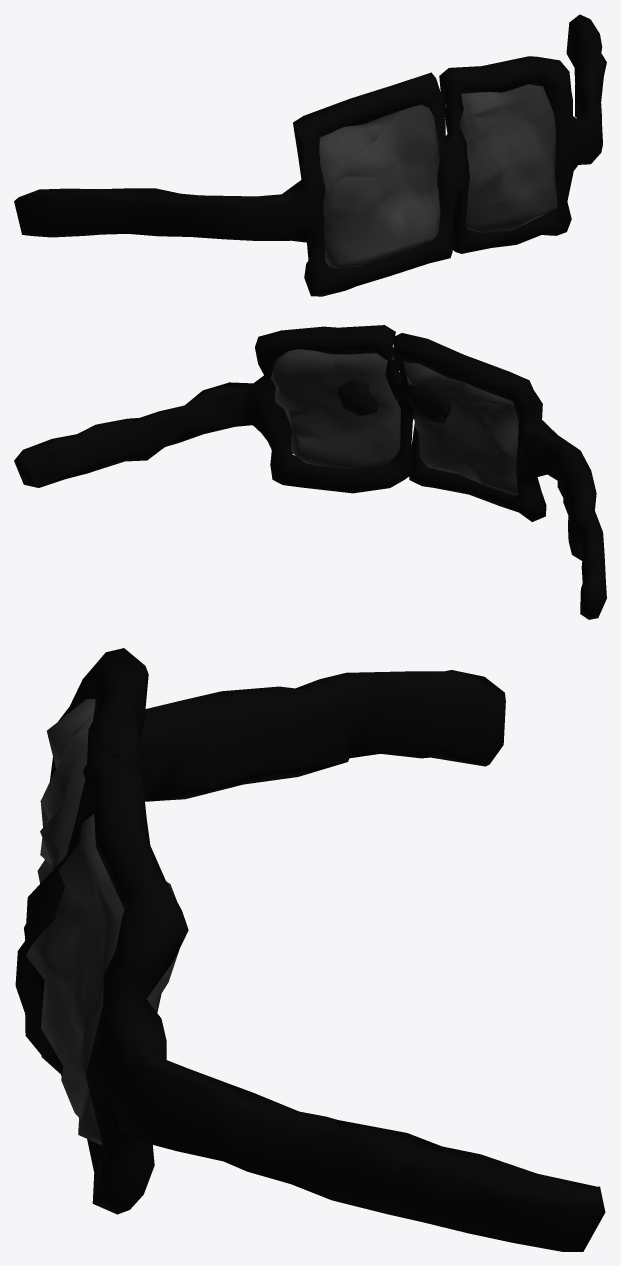
The model's file is shades.glb.
3 renders of one model, top to bottom at view 1: azimuth 30°, elevation 25°; view 2: azimuth 150°, elevation 25°; view 3: azimuth 270°, elevation 25°, orthographic. The views are drawn at different scales.
Parts seen in each view (by area): view 1: eyes_glasses_shades.001; view 2: eyes_glasses_shades.001; view 3: eyes_glasses_shades.001.
Part boxes in pixels (x1,y1,x2,y2): eyes_glasses_shades.001: [14, 14, 606, 296]; eyes_glasses_shades.001: [14, 325, 606, 619]; eyes_glasses_shades.001: [15, 648, 605, 1251].
Size of the model in its own units: 0.3251 by 0.1009 by 0.1484.
3 materials, 3 textured.
